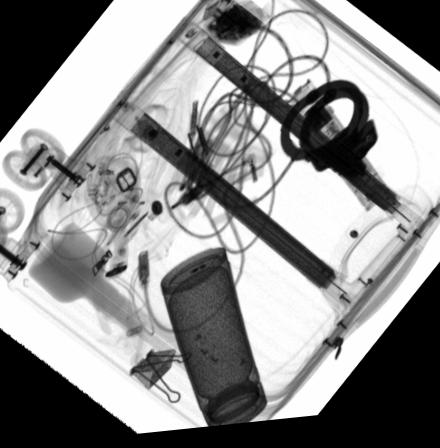Baton: (285, 86, 391, 221)
HandCuffs: (278, 86, 378, 193)
